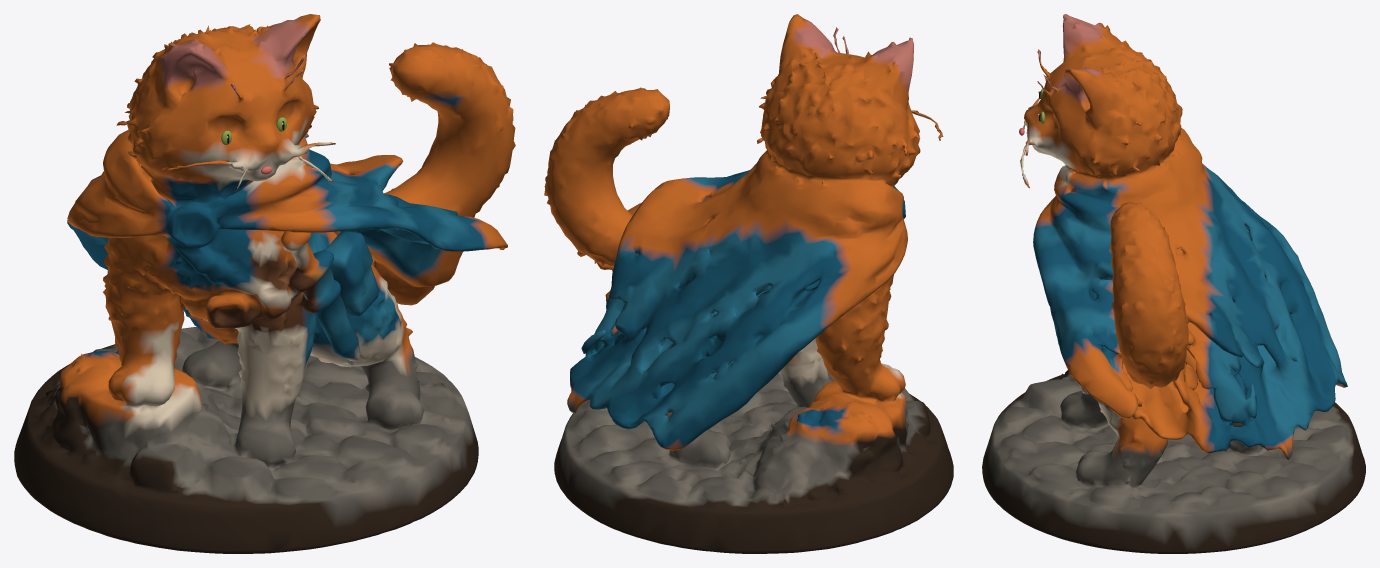
Rendered from gato_aventureiro.glb.
3 views of the same model, side by side, from view 1: azimuth 30°, elevation 25°; view 2: azimuth 150°, elevation 25°; view 3: azimuth 270°, elevation 25° (orthographic). The views are drawn at different scales.
Visible parts, largest first — view 1: tmp2_ac_561.ply; view 2: tmp2_ac_561.ply; view 3: tmp2_ac_561.ply.
Part boxes in pixels (x1,y1,x2,y2): tmp2_ac_561.ply: [14, 14, 515, 553]; tmp2_ac_561.ply: [544, 14, 953, 553]; tmp2_ac_561.ply: [982, 14, 1365, 553].
Size of the model in its own units: 1.88 by 1.95 by 1.65.
